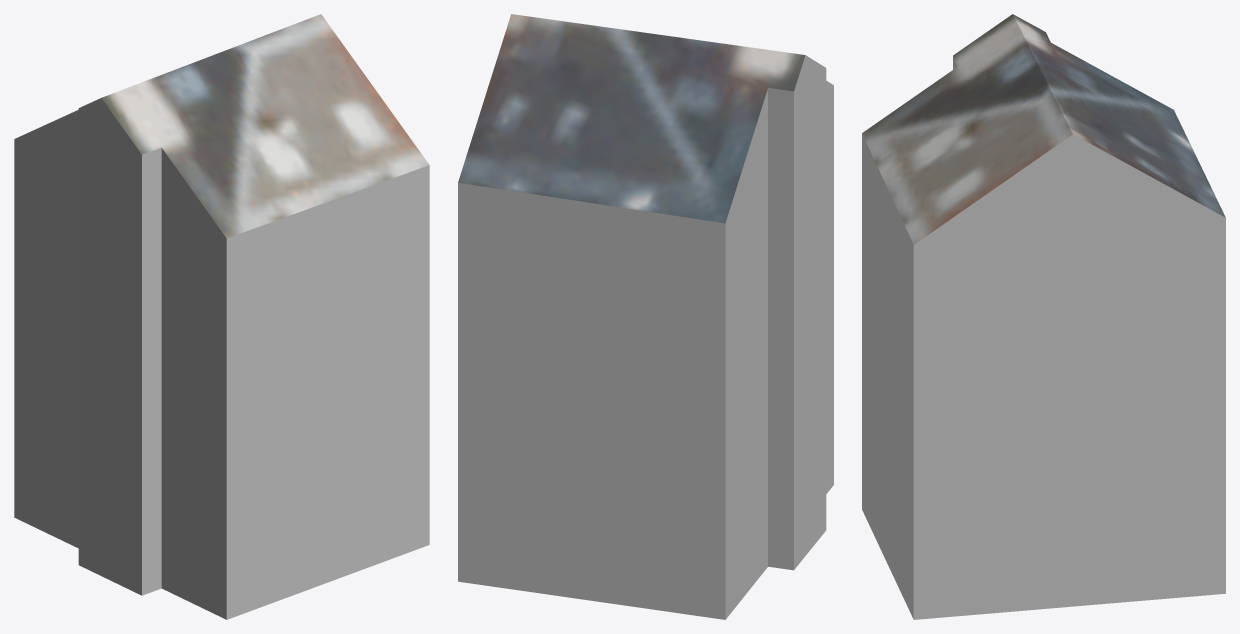
Rendered from DEBW_0010007Tx3f.gltf.
The picture shows the model from 3 angles, left to right: view 1: azimuth 30°, elevation 25°; view 2: azimuth 150°, elevation 25°; view 3: azimuth 270°, elevation 25°; orthographic projection. The views are drawn at different scales.
Visible parts, largest first — view 1: Z_UP; view 2: Z_UP; view 3: Z_UP.
Part boxes in pixels (bbox=[...]): Z_UP: bbox=[14, 14, 429, 619]; Z_UP: bbox=[458, 14, 833, 619]; Z_UP: bbox=[862, 14, 1225, 619].
Size of the model in its own units: 11.32 by 18.24 by 12.73.
Materials: 2 (1 with a texture image).
